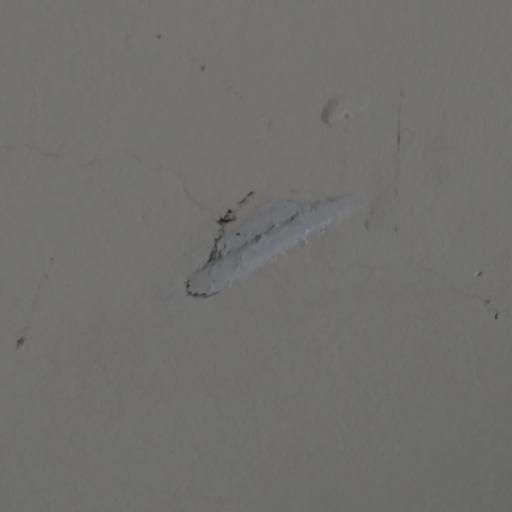peeling: (152, 165, 396, 314), (313, 60, 380, 139)
